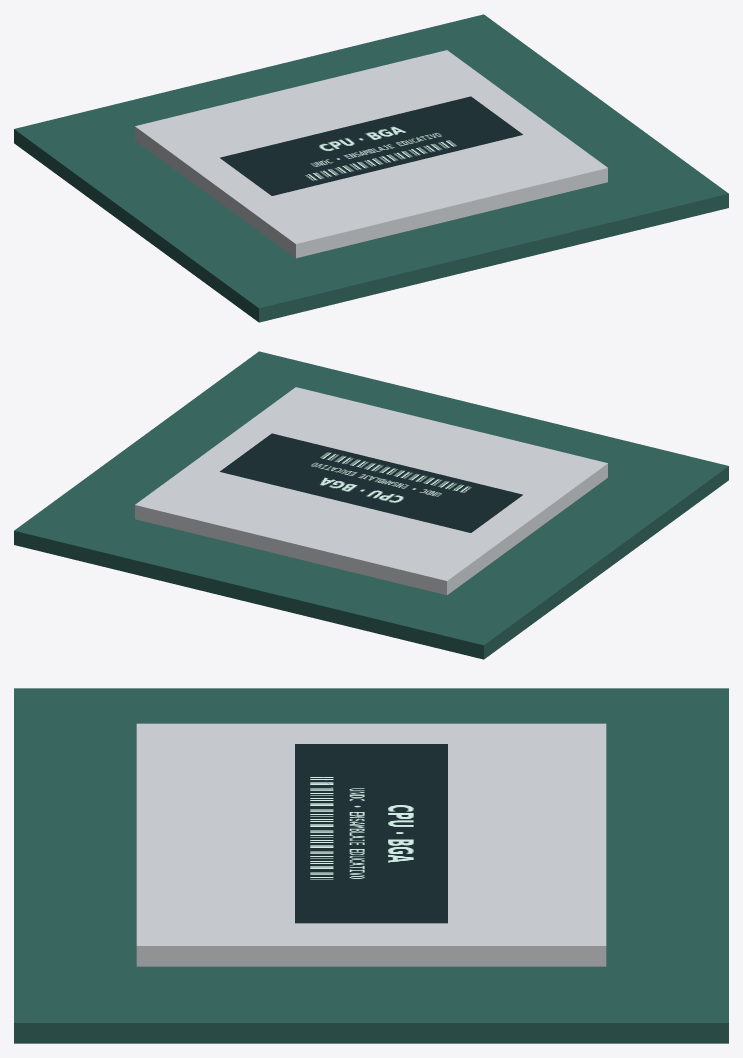
File: cpu.glb
The picture shows the model from 3 angles, top to bottom: view 1: azimuth 30°, elevation 25°; view 2: azimuth 150°, elevation 25°; view 3: azimuth 270°, elevation 25°; orthographic projection. The views are drawn at different scales.
Visible parts, largest first — view 1: CPU BGA soldada; view 2: CPU BGA soldada; view 3: CPU BGA soldada.
Boxes of the visible parts, x1=… form: CPU BGA soldada: x1=14, y1=14, x2=728, y2=322; CPU BGA soldada: x1=14, y1=351, x2=728, y2=659; CPU BGA soldada: x1=14, y1=688, x2=728, y2=1043.
Size of the model in its own units: 1.55 by 0.0925 by 1.4.
3 materials, 1 textured.
